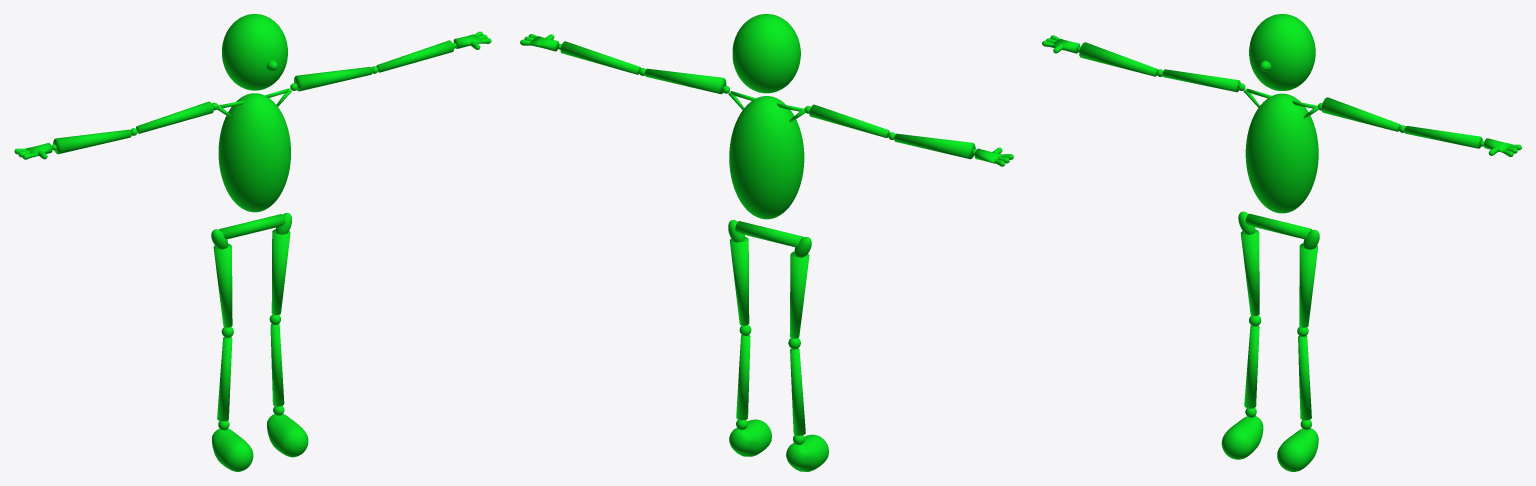
File: npc.glb
3 renders of one model, left to right at view 1: azimuth 30°, elevation 25°; view 2: azimuth 150°, elevation 25°; view 3: azimuth 330°, elevation 25°, orthographic. The views are drawn at different scales.
Parts seen in each view (by area): view 1: Sphere.001; view 2: Sphere.001; view 3: Sphere.001.
Part boxes in pixels (bbox=[...]): Sphere.001: bbox=[14, 14, 491, 471]; Sphere.001: bbox=[520, 14, 1013, 471]; Sphere.001: bbox=[1042, 14, 1521, 471].
Bounding box in the file's own units: 8.33 × 7.42 × 1.21.
